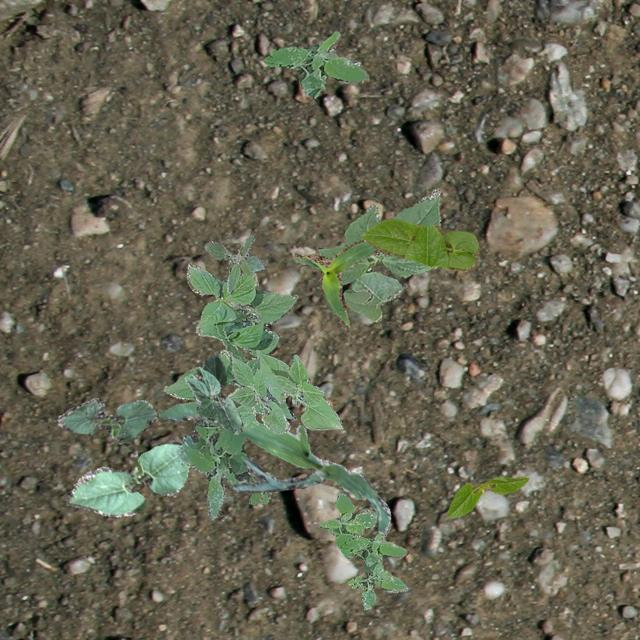crop: (158, 401, 390, 534), (162, 261, 296, 418), (316, 188, 439, 320), (226, 348, 342, 432), (64, 440, 190, 516), (292, 238, 378, 328), (362, 218, 478, 270), (184, 354, 242, 434), (56, 396, 156, 442), (444, 476, 528, 518)
weed: (319, 492, 406, 608), (177, 418, 270, 520), (264, 30, 366, 96), (204, 234, 264, 292)
